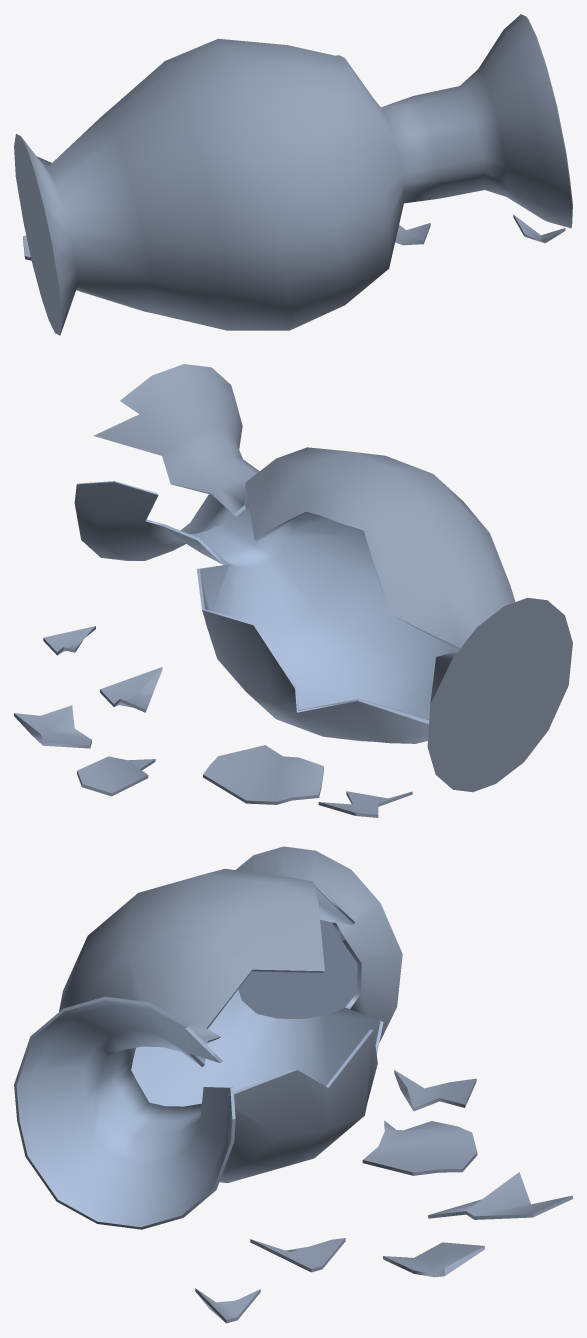
Rendered from Vase with Shards.fbx.
The picture shows the model from 3 angles, top to bottom: view 1: azimuth 30°, elevation 25°; view 2: azimuth 150°, elevation 25°; view 3: azimuth 270°, elevation 25°; orthographic projection. The views are drawn at different scales.
Parts seen in each view (by area): view 1: pCylinder5, pCube4, pCube9; view 2: pCylinder5, pCube8, pCube7, pCube3, pCube4, pCube1, pCube9; view 3: pCylinder5, pCube8, pCube7, pCube3, pCube1, pCube4, pCube9.
Part boxes in pixels (x1,y1,x2,y2): pCylinder5: [14, 14, 572, 335]; pCube4: [395, 223, 430, 245]; pCube9: [513, 214, 565, 243]; pCylinder5: [74, 364, 572, 792]; pCube8: [203, 745, 323, 804]; pCube7: [77, 756, 155, 796]; pCube3: [14, 705, 91, 748]; pCube4: [100, 667, 162, 712]; pCube1: [318, 791, 412, 817]; pCube9: [43, 626, 95, 655]; pCylinder5: [14, 846, 402, 1229]; pCube8: [362, 1120, 477, 1175]; pCube7: [428, 1172, 572, 1219]; pCube3: [383, 1242, 484, 1277]; pCube1: [394, 1070, 476, 1111]; pCube4: [250, 1238, 345, 1272]; pCube9: [195, 1288, 260, 1323].
Bounding box in the file's own units: 3.84 × 1.9 × 3.26.
1 material, 1 textured.
